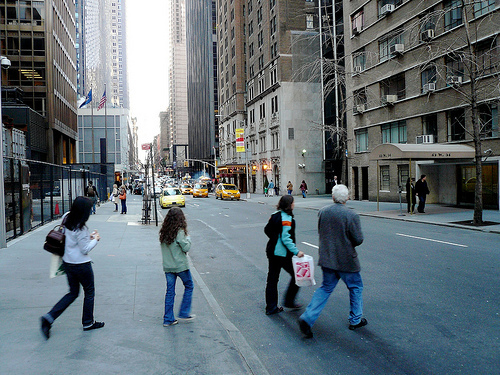person: (294, 179, 374, 342), (31, 191, 114, 342), (260, 191, 310, 320), (153, 203, 197, 329)
